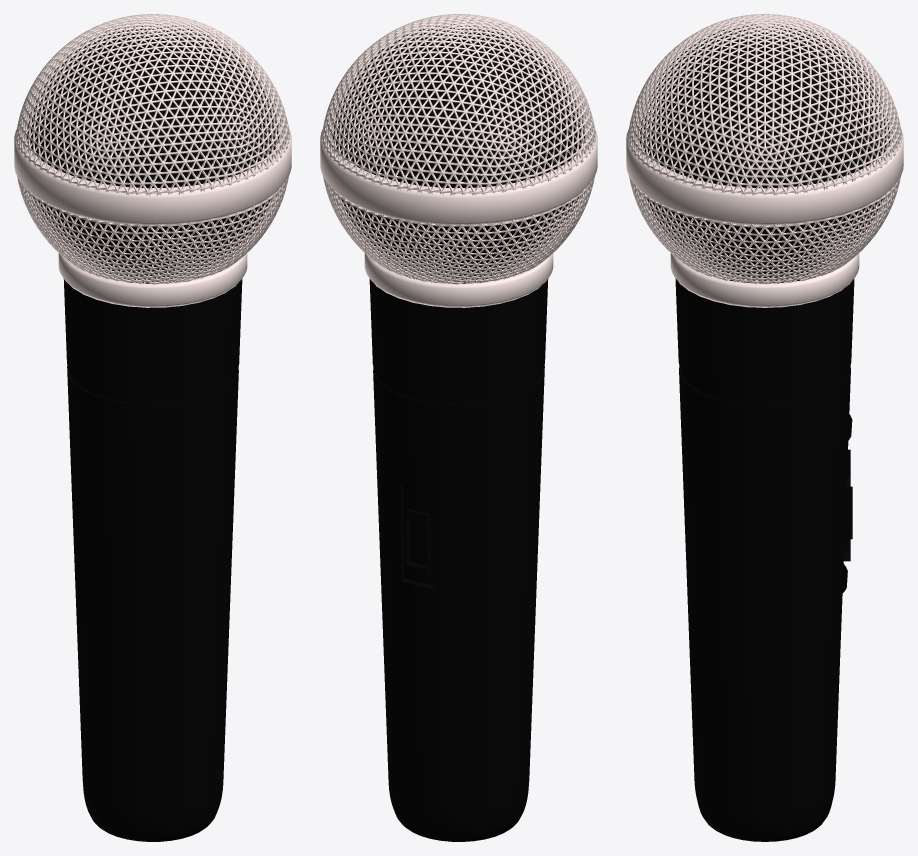
3 views of the same model, side by side, from view 1: azimuth 30°, elevation 25°; view 2: azimuth 150°, elevation 25°; view 3: azimuth 270°, elevation 25° (orthographic).
Visible parts, largest first — view 1: Cylinder.001, Icosphere, Sphere, Cylinder, Cylinder.002; view 2: Cylinder.001, Icosphere, Sphere, Cylinder, Cylinder.002; view 3: Cylinder.001, Icosphere, Sphere, Cylinder, Cylinder.002.
Part boxes in pixels (box(x1,y1,x2,y2)): Cylinder.001: box(63, 246, 242, 841); Icosphere: box(15, 14, 289, 284); Sphere: box(27, 24, 278, 273); Cylinder: box(14, 116, 291, 225); Cylinder.002: box(58, 253, 247, 307); Cylinder.001: box(369, 246, 548, 841); Icosphere: box(322, 14, 595, 284); Sphere: box(333, 24, 584, 273); Cylinder: box(320, 116, 597, 225); Cylinder.002: box(364, 253, 553, 307); Cylinder.001: box(675, 263, 854, 841); Icosphere: box(628, 14, 901, 284); Sphere: box(637, 24, 892, 273); Cylinder: box(626, 125, 903, 225); Cylinder.002: box(670, 253, 859, 307).
Size of the model in its own units: 150 by 473 by 150.
